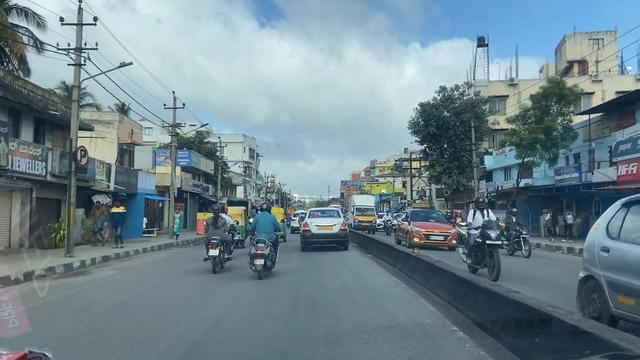LMV: (248, 198, 275, 281), (301, 204, 349, 248), (207, 202, 228, 268)
